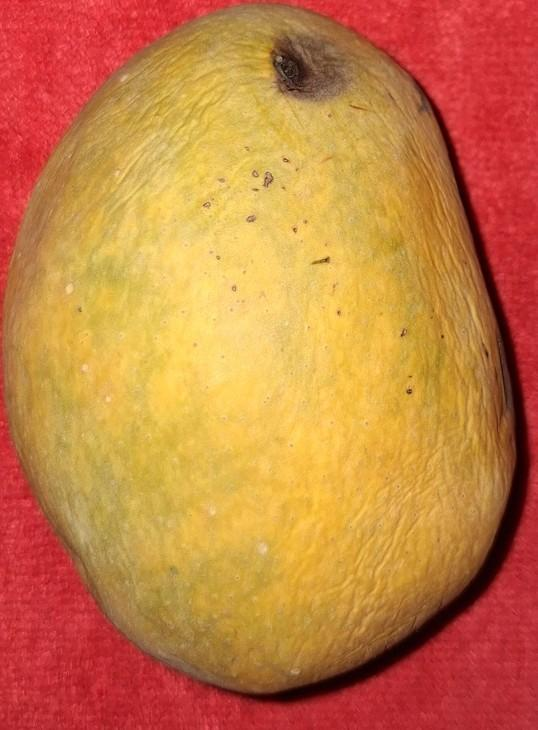mango: (1, 1, 518, 697)
